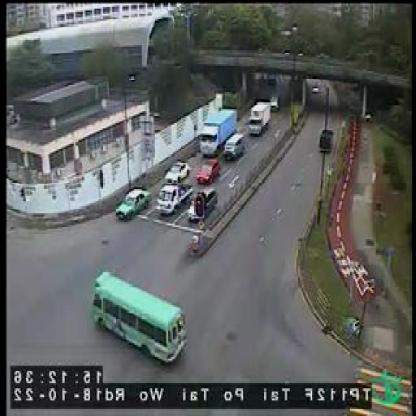Car: (188, 186, 217, 226), (116, 186, 150, 219), (163, 159, 191, 186), (223, 132, 246, 162), (198, 157, 220, 185), (317, 128, 334, 154)
Minibus: (91, 270, 187, 365)
Truck: (198, 109, 238, 155), (157, 182, 193, 216), (248, 101, 272, 138)
